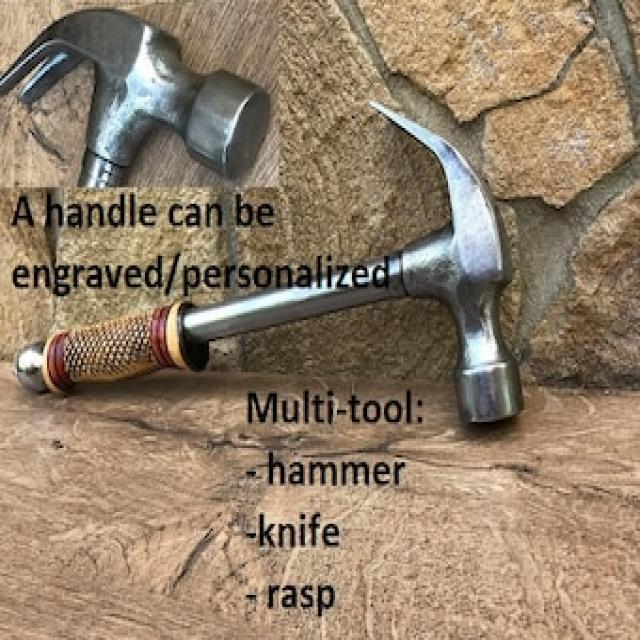hammer: (5, 89, 548, 442)
